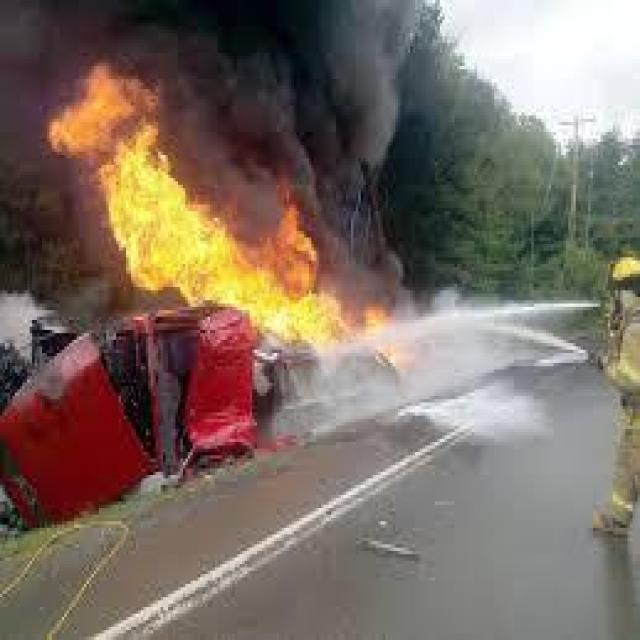fire: (65, 74, 409, 356)
smoke: (10, 0, 445, 162)
